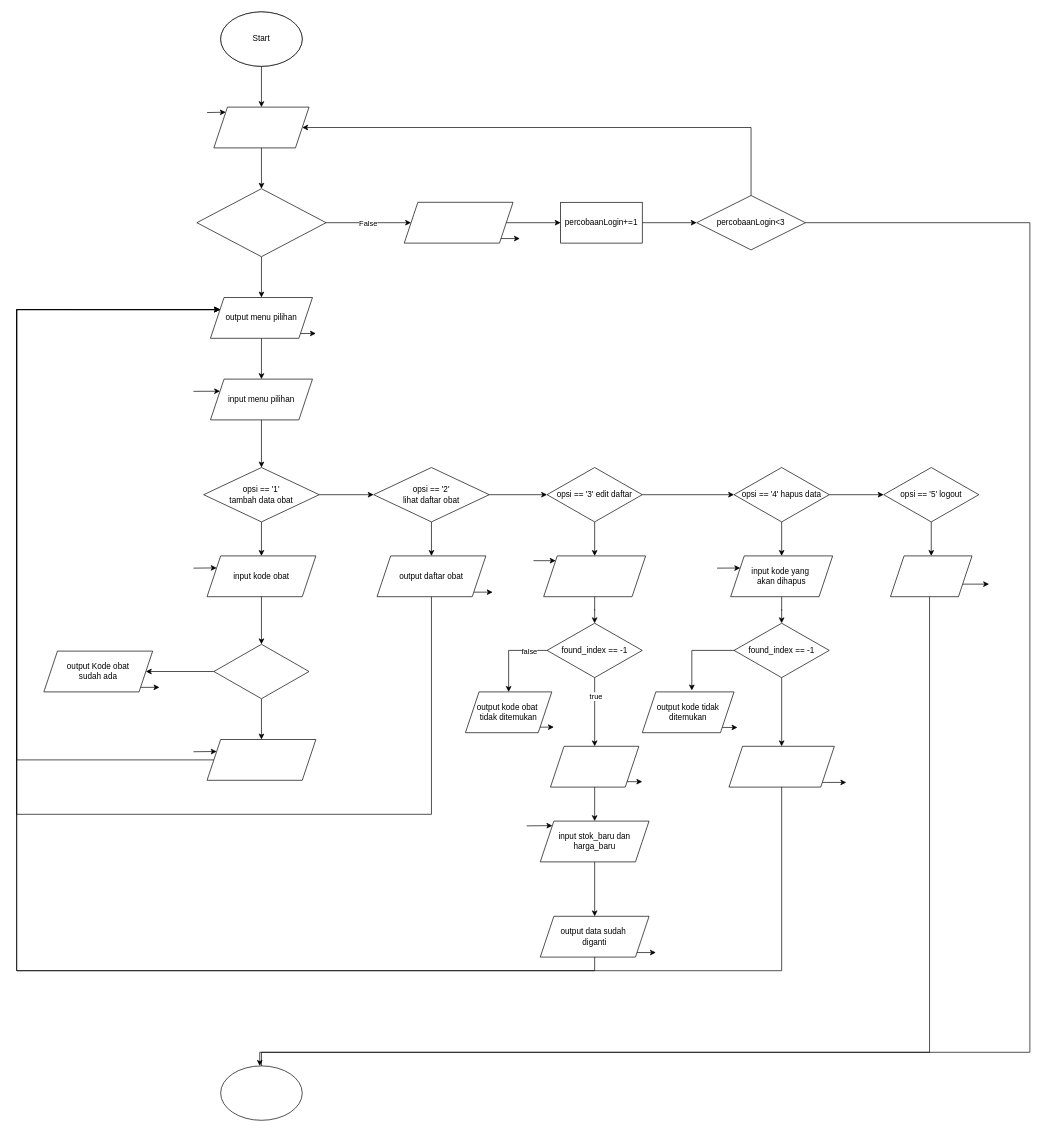
This 1047x1132 diagram has some shape labels left out. Here are the shapes that lost their labels. From the top down, the centre of each, then its label:
point (261, 127): Input username & Password
point (261, 222): username == "Apoteker",& password == "123"
point (458, 222): Output Usn dan Pw tidak sesuai
point (594, 576): input kode obat yang akan diubah
point (931, 576): output logout berhasil
point (261, 671): kode exists == false
point (261, 759): input nama obat, stok dan harga
point (594, 766): output data obat lama
point (781, 766): output obat berhasil dihapus
point (261, 1092): end
